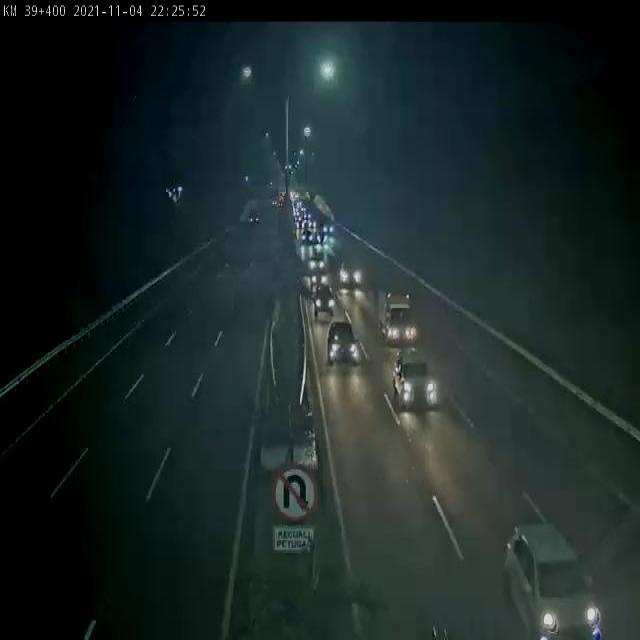Car: (485, 494, 620, 640), (422, 501, 469, 636), (390, 347, 440, 407), (325, 318, 361, 367), (334, 250, 370, 299), (310, 285, 337, 321), (301, 251, 327, 278)
Van: (375, 278, 435, 344)
